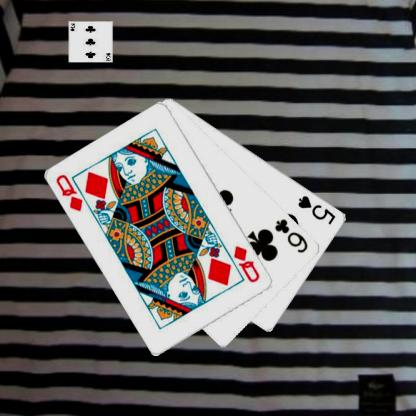5S: (296, 192, 338, 226)
6C: (272, 216, 310, 254)
QD: (231, 243, 262, 284), (54, 172, 84, 213)
